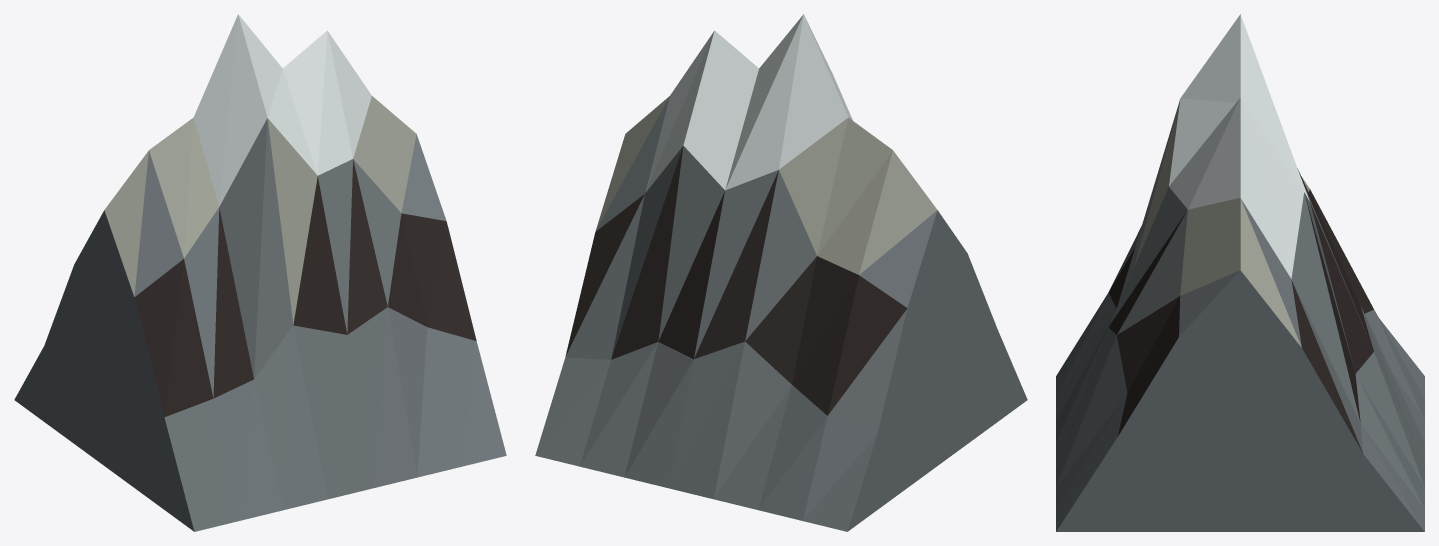
The model's file is Mountain_B.fbx.
3 views of the same model, side by side, from view 1: azimuth 30°, elevation 25°; view 2: azimuth 150°, elevation 25°; view 3: azimuth 270°, elevation 25° (orthographic). The views are drawn at different scales.
Parts seen in each view (by area): view 1: Mountain_B; view 2: Mountain_B; view 3: Mountain_B.
Part boxes in pixels (left/top/right/bottom): Mountain_B: left=14, top=14, right=506, bottom=531; Mountain_B: left=535, top=14, right=1027, bottom=531; Mountain_B: left=1056, top=14, right=1424, bottom=531.
Size of the model in its own units: 3 by 3.85 by 3.
1 material, 1 textured.
